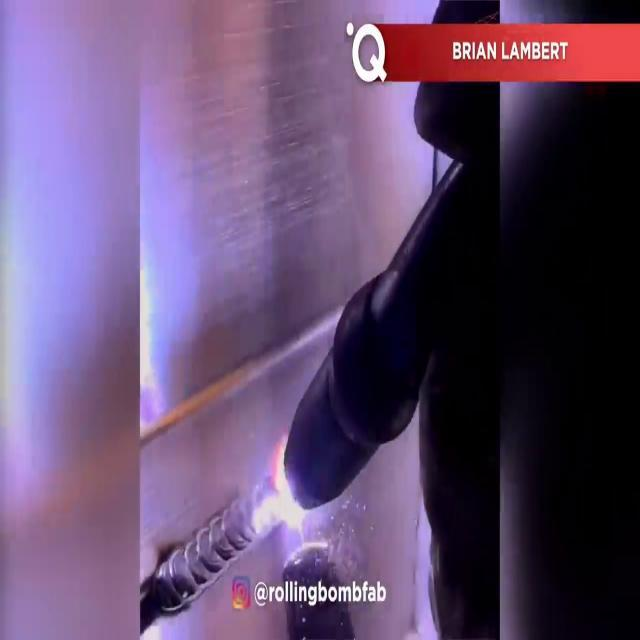Good Weld: (182, 510, 246, 566)
